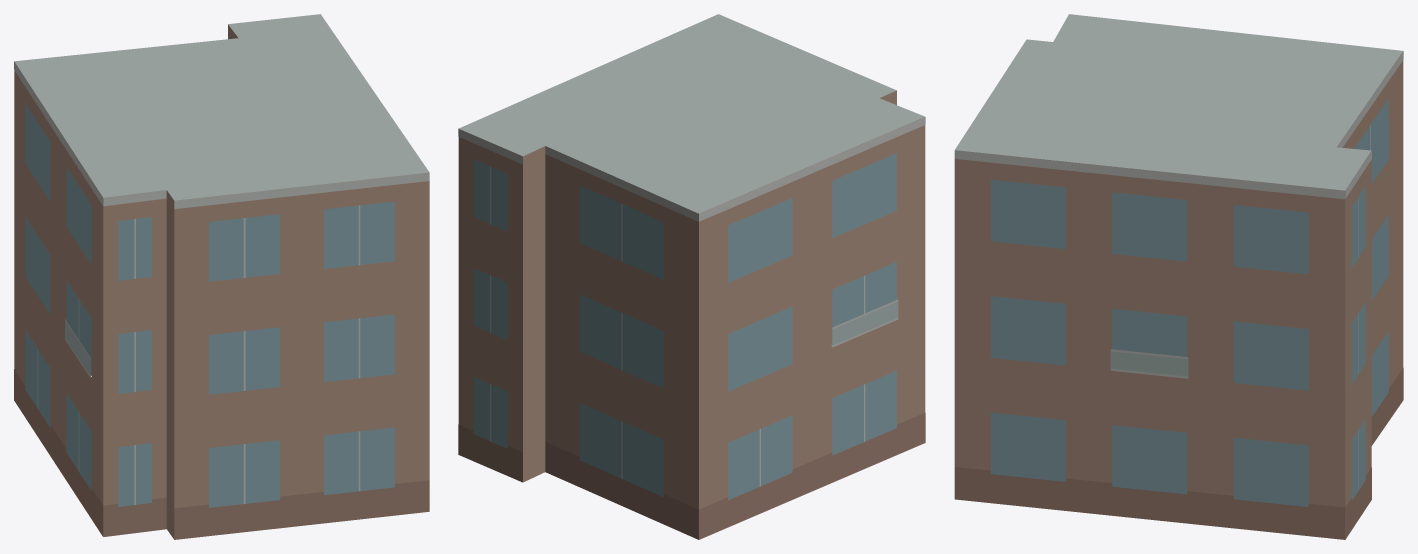
Rendered from survey-upis-33015806.glb.
3 renders of one model, left to right at view 1: azimuth 30°, elevation 25°; view 2: azimuth 150°, elevation 25°; view 3: azimuth 270°, elevation 25°, orthographic. The views are drawn at different scales.
Parts seen in each view (by area): view 1: survey-upis-33015806.tmp; view 2: survey-upis-33015806.tmp; view 3: survey-upis-33015806.tmp.
Boxes of the visible parts, x1,y1,x2,y2 form: survey-upis-33015806.tmp: [14, 14, 429, 539]; survey-upis-33015806.tmp: [458, 14, 925, 539]; survey-upis-33015806.tmp: [954, 14, 1403, 539].
Size of the model in its own units: 10.64 by 9.8 by 11.43.
